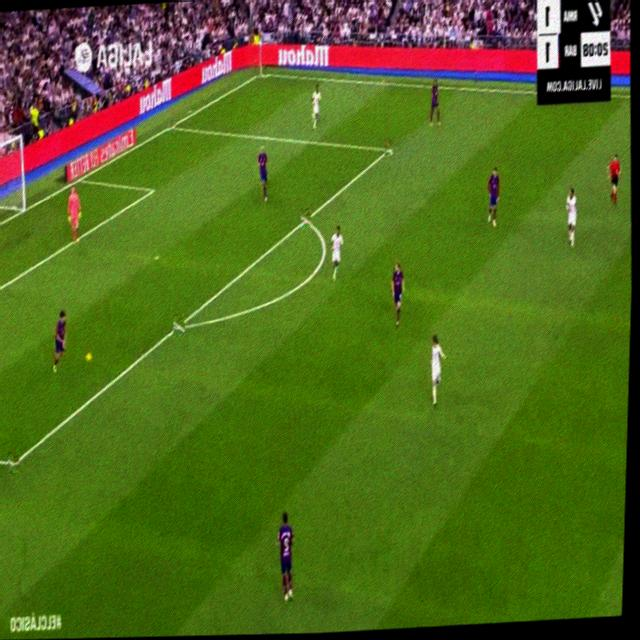bigarea_bottom_inner: (6, 449, 19, 477)
bigarea_top_inner: (383, 138, 393, 158)
bigarea_top_outter: (165, 117, 174, 132)
bottom_arc_area_intersection: (171, 312, 184, 336)
corner: (254, 65, 265, 79)
smallarea_top_inner: (150, 183, 156, 196)
top_arc_area_intersection: (299, 207, 311, 228)
